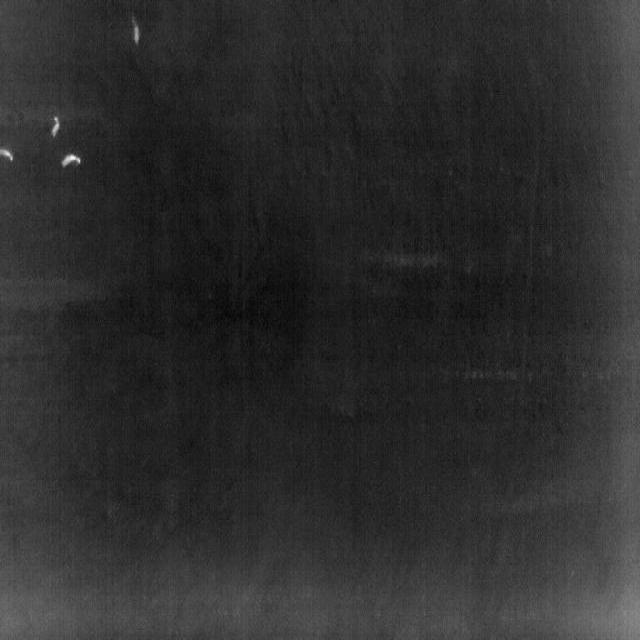deer: (60, 152, 82, 168), (0, 147, 14, 164), (132, 16, 140, 44), (50, 116, 60, 138)
